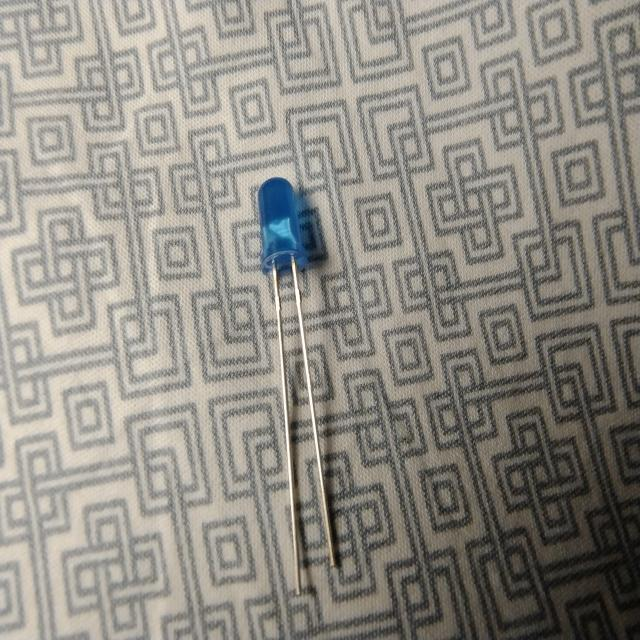blue_led: (257, 175, 308, 275)
